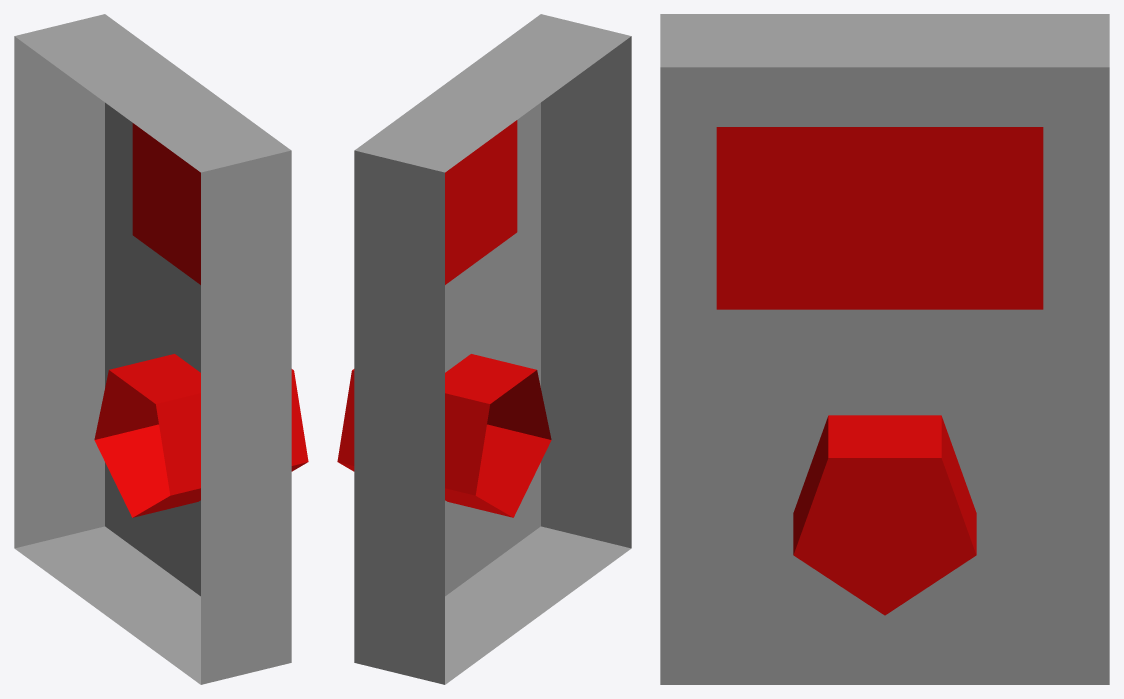
File: Button_Generic.fbx
The picture shows the model from 3 angles, left to right: view 1: azimuth 30°, elevation 25°; view 2: azimuth 150°, elevation 25°; view 3: azimuth 270°, elevation 25°; orthographic projection. The views are drawn at different scales.
Parts seen in each view (by area): view 1: Button; view 2: Button; view 3: Button.
Boxes of the visible parts, left/top/right/bottom form: Button: left=14, top=14, right=308, bottom=684; Button: left=337, top=14, right=631, bottom=684; Button: left=660, top=14, right=1109, bottom=684.
Bounding box in the file's own units: 5.27 × 15.83 × 10.44.
